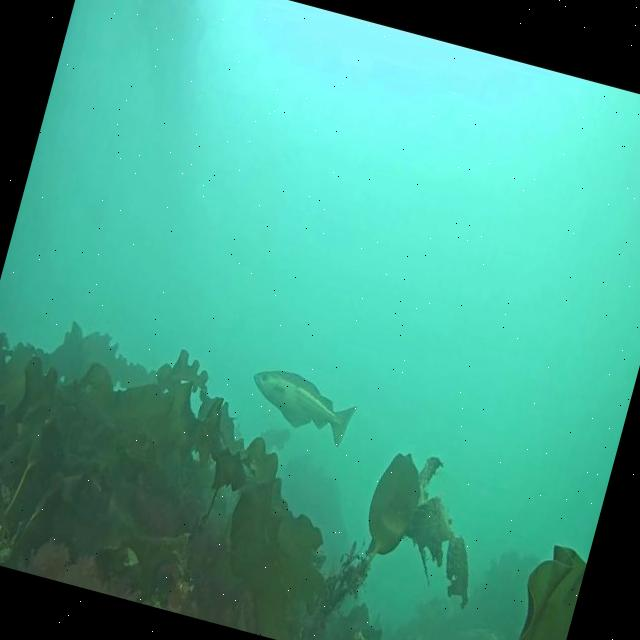fish: (239, 359, 360, 452)
